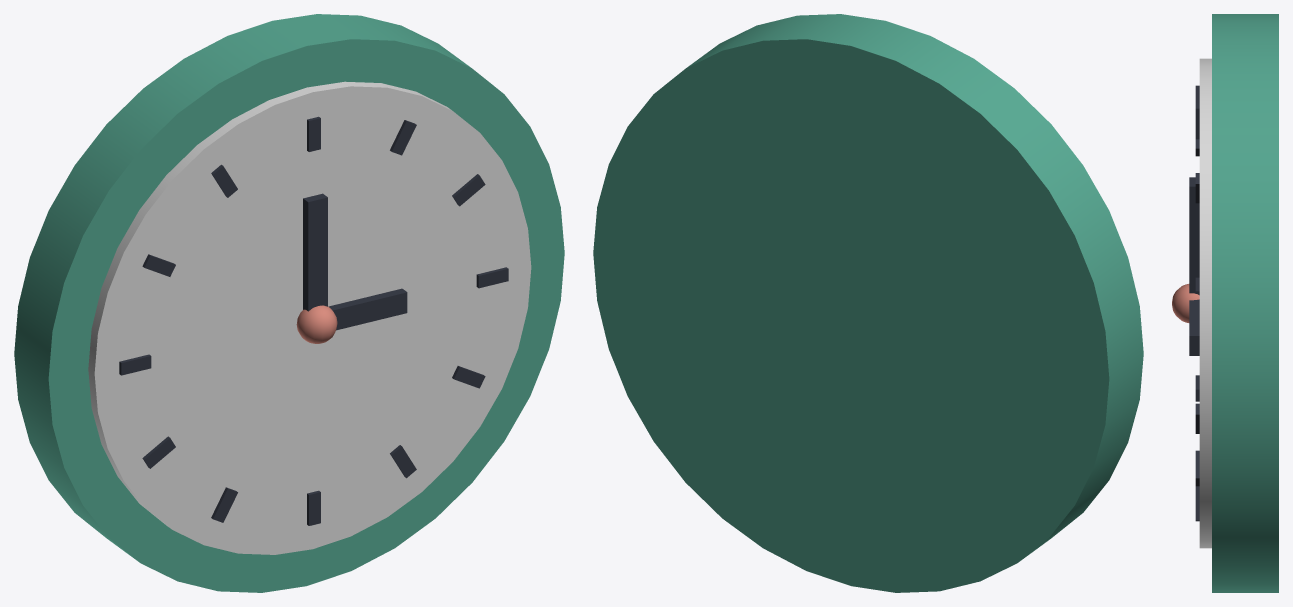
Rendered from furn_clock_ph.glb.
3 views of the same model, side by side, from view 1: azimuth 30°, elevation 25°; view 2: azimuth 150°, elevation 25°; view 3: azimuth 270°, elevation 25° (orthographic). The views are drawn at different scales.
Parts seen in each view (by area): view 1: furn_clock; view 2: furn_clock; view 3: furn_clock.
Part boxes in pixels (box(x1,y1,x2,y2)): furn_clock: box(14, 14, 564, 592); furn_clock: box(593, 14, 1143, 592); furn_clock: box(1172, 14, 1278, 592).
Size of the model in its own units: 0.52 by 0.52 by 0.0955.
